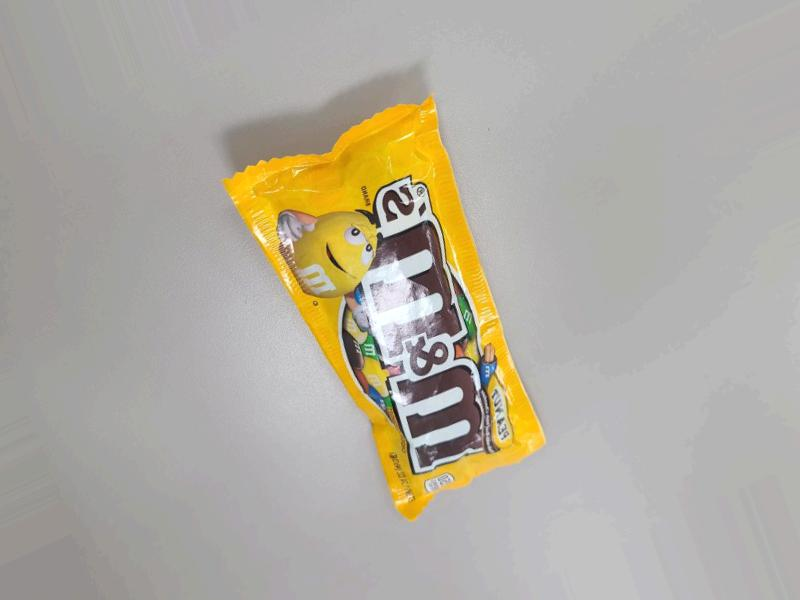m&m: (228, 189, 576, 538)
